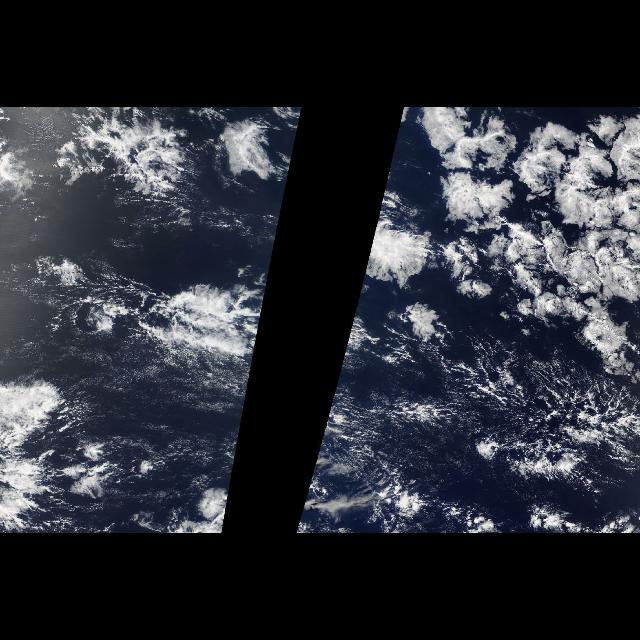Flower: (342, 108, 640, 358), (6, 110, 274, 206)
Gravel: (327, 334, 639, 516)
Sugar: (18, 333, 258, 503), (304, 379, 336, 503)
